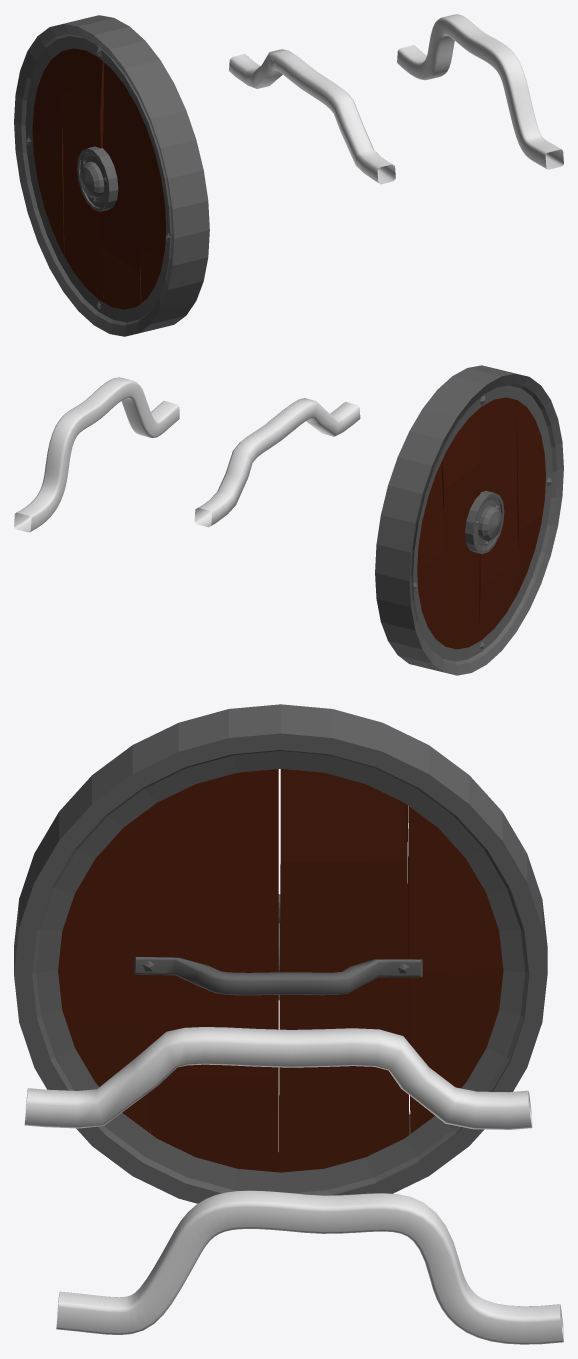
Rendered from Shieldlowpoly (2).fbx.
The picture shows the model from 3 angles, top to bottom: view 1: azimuth 30°, elevation 25°; view 2: azimuth 150°, elevation 25°; view 3: azimuth 270°, elevation 25°; orthographic projection. The views are drawn at different scales.
Parts seen in each view (by area): view 1: Cylinder.010, Cylinder.008, Cylinder.009, BezierCurve.001, BezierCurve.002, Cylinder.006, Cylinder.007, Cylinder.011; view 2: Cylinder.010, Cylinder.009, Cylinder.008, BezierCurve.001, BezierCurve.002, Cylinder.007, Cylinder.006, Cylinder.011; view 3: Cylinder.010, Cylinder.009, Cylinder.008, BezierCurve.001, BezierCurve.002, Cylinder.006, Cylinder.007, BezierCurve.003.
Part boxes in pixels (bbox=[...]): Cylinder.010: bbox=[14, 15, 209, 336]; Cylinder.008: bbox=[100, 61, 142, 309]; Cylinder.009: bbox=[62, 48, 103, 302]; BezierCurve.001: bbox=[397, 14, 563, 169]; BezierCurve.002: bbox=[229, 49, 395, 184]; Cylinder.006: bbox=[32, 51, 63, 254]; Cylinder.007: bbox=[138, 119, 166, 303]; Cylinder.011: bbox=[77, 146, 118, 211]; Cylinder.010: bbox=[375, 365, 563, 675]; Cylinder.009: bbox=[441, 409, 480, 649]; Cylinder.008: bbox=[478, 397, 519, 641]; BezierCurve.001: bbox=[14, 377, 179, 532]; BezierCurve.002: bbox=[194, 398, 360, 527]; Cylinder.007: bbox=[516, 400, 545, 594]; Cylinder.006: bbox=[417, 462, 444, 642]; Cylinder.011: bbox=[465, 490, 504, 554]; Cylinder.010: bbox=[14, 704, 547, 1203]; Cylinder.009: bbox=[278, 769, 410, 1172]; Cylinder.008: bbox=[148, 769, 278, 1172]; BezierCurve.001: bbox=[56, 1190, 563, 1344]; BezierCurve.002: bbox=[24, 1027, 532, 1129]; Cylinder.006: bbox=[409, 806, 503, 1133]; Cylinder.007: bbox=[58, 809, 150, 1133]; BezierCurve.003: bbox=[134, 956, 422, 995].
Bounding box in the file's own units: 776 × 517 × 533.
